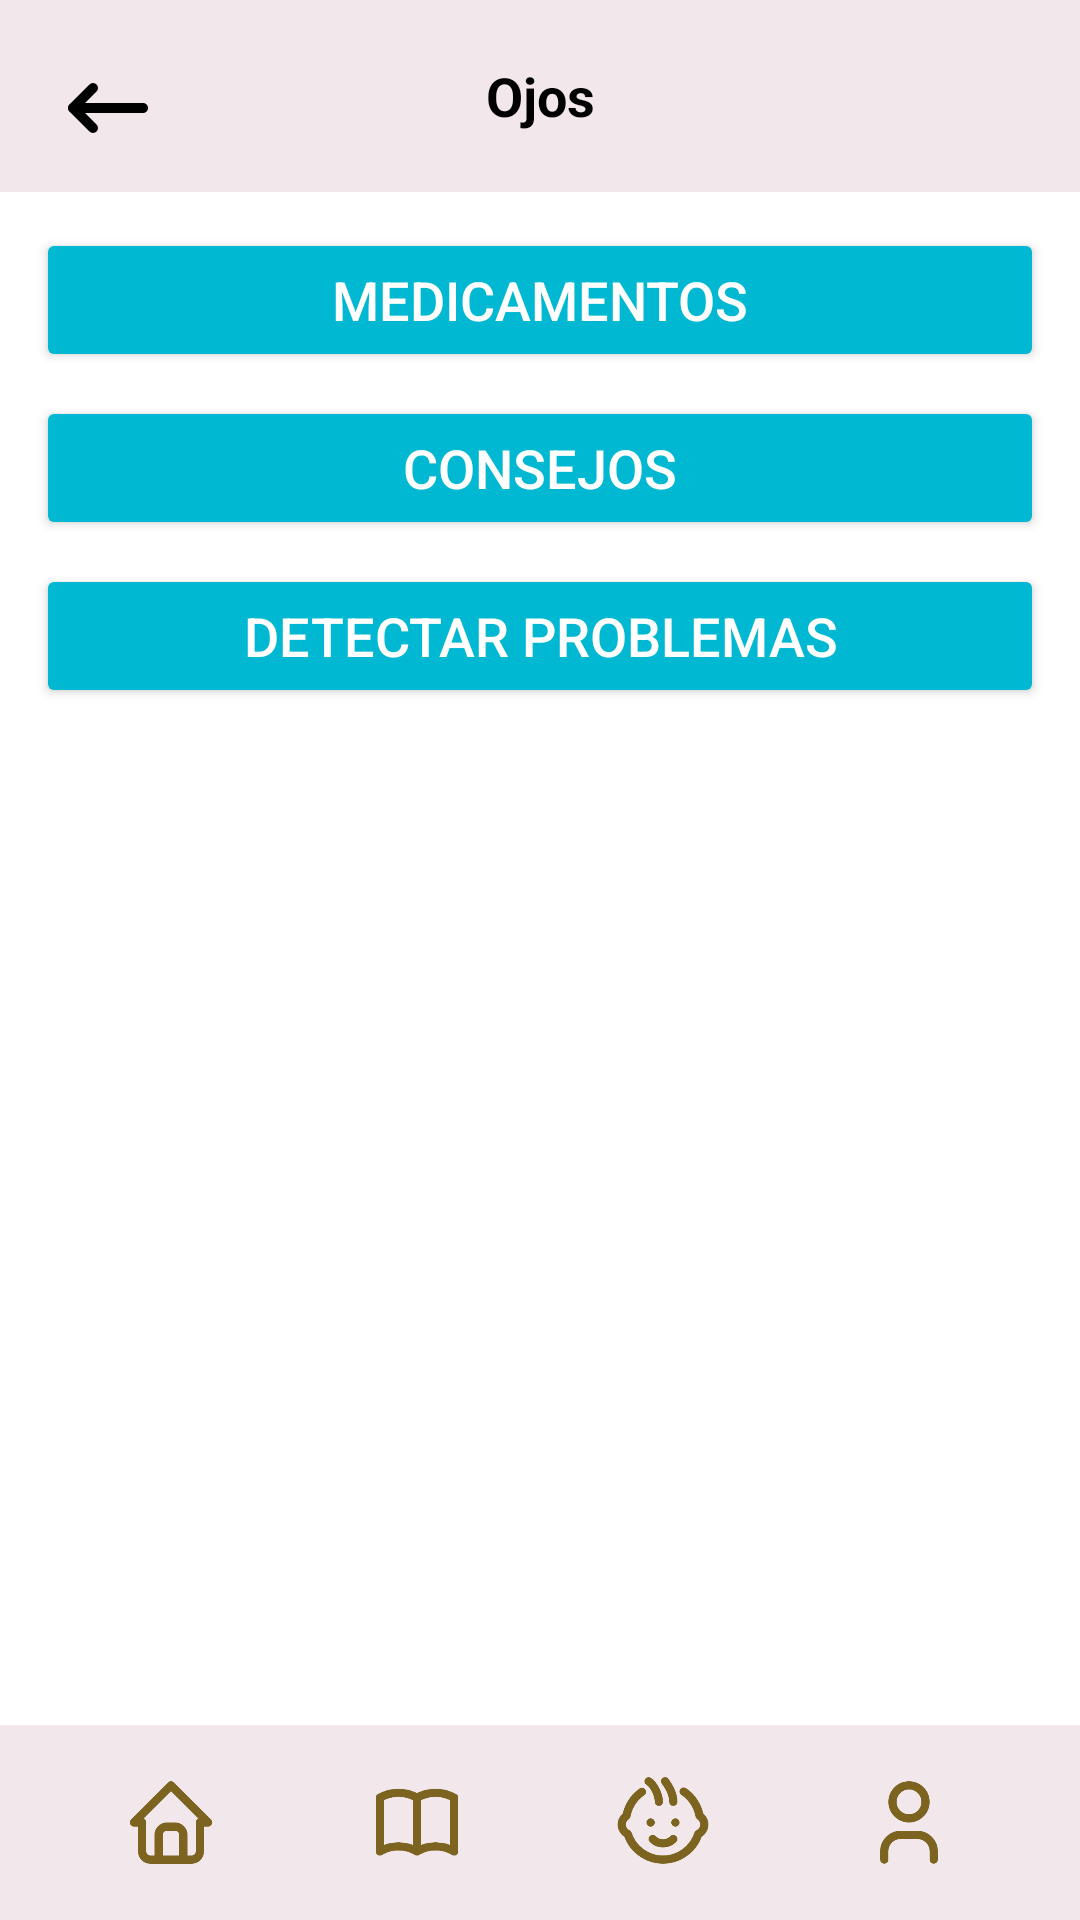

Where icons sit on this 1080px×1920px app screen, as (x1, y1, x2, y2):
book: (376, 1789, 458, 1856)
home: (130, 1781, 212, 1864)
moodboy: (617, 1777, 709, 1864)
personaa: (880, 1781, 938, 1864)
